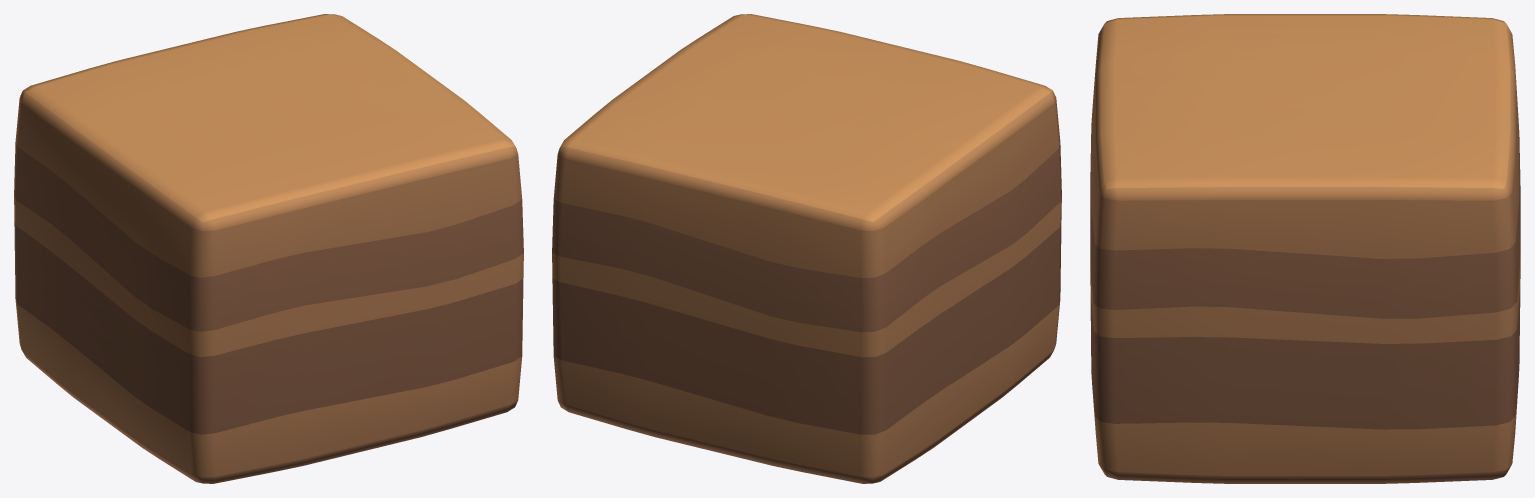
File: ground_cubes2.fbx
3 renders of one model, left to right at view 1: azimuth 30°, elevation 25°; view 2: azimuth 150°, elevation 25°; view 3: azimuth 270°, elevation 25°, orthographic. The views are drawn at different scales.
Visible parts, largest first — view 1: ground_cubes2; view 2: ground_cubes2; view 3: ground_cubes2.
Part boxes in pixels (<box>): ground_cubes2: <box>14,14,523,483</box>; ground_cubes2: <box>552,14,1061,483</box>; ground_cubes2: <box>1090,14,1520,483</box>.
Size of the model in its own units: 108 by 85.97 by 108.
Materials: 1 (1 with a texture image).
